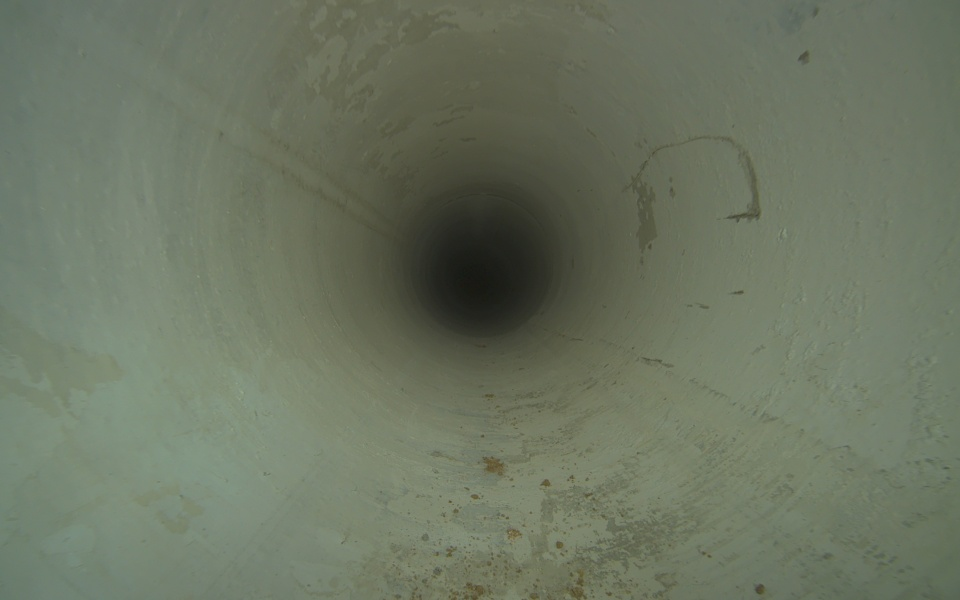circle1: (408, 188, 557, 342)
circle2: (460, 264, 495, 301)
